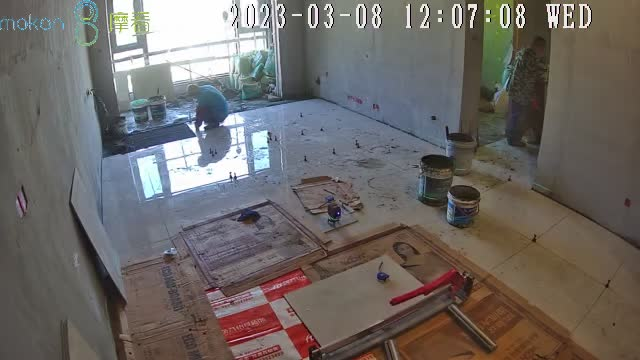people: (503, 33, 546, 148), (187, 83, 229, 134)
window: (109, 1, 267, 95)
